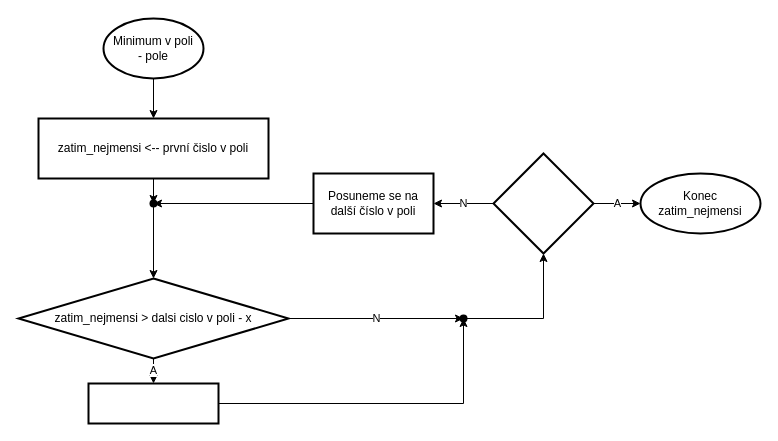
Image size: 778x441. Some labels were removed from this diagram. The box of each missing label's shape, as (x1, y1, x2, y2) in pixels:
Došla čísla?: (492, 152, 594, 254)
zatim_nejmensi <-- x: (87, 382, 219, 424)
